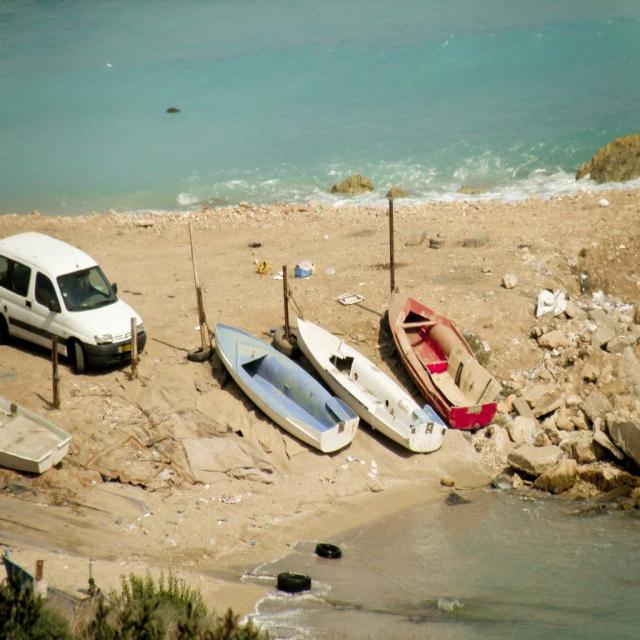Boat: (182, 278, 370, 473), (297, 314, 446, 456), (388, 286, 500, 433), (0, 397, 74, 474)
